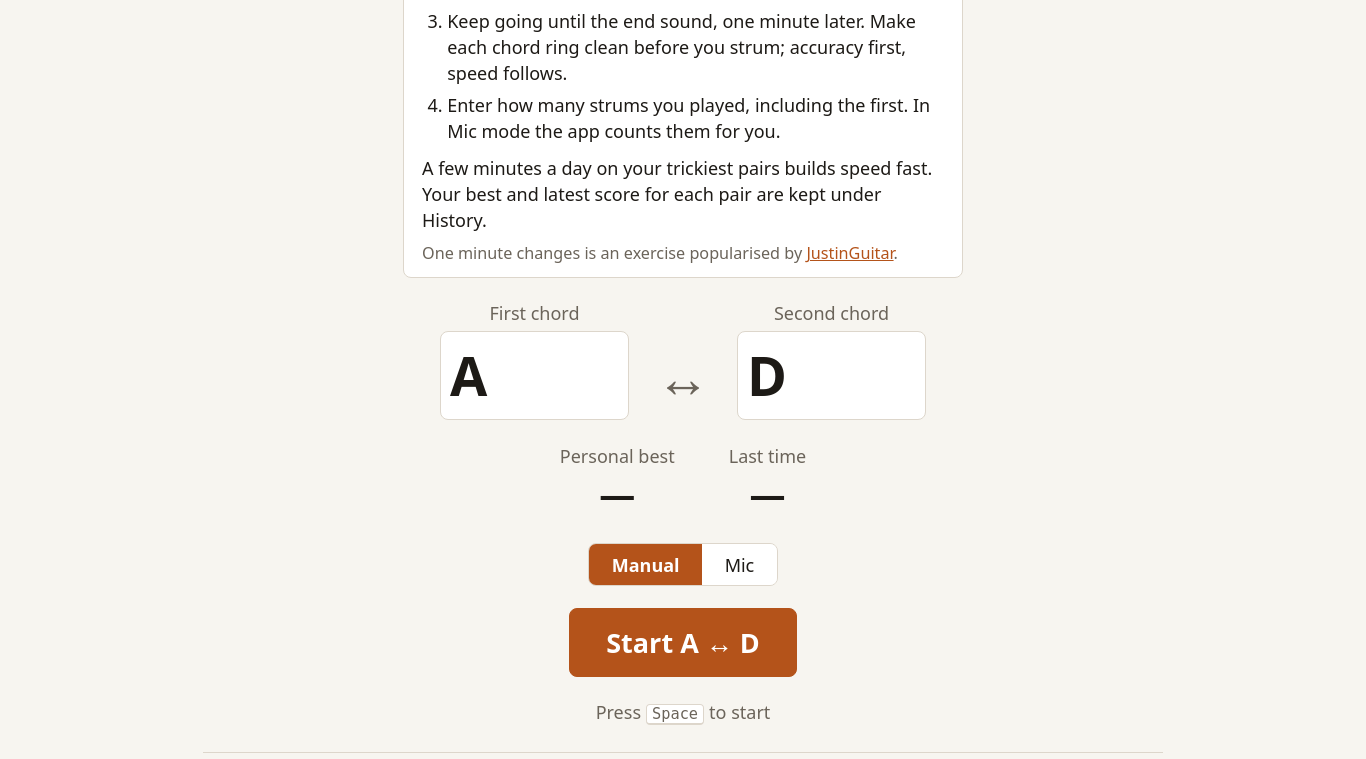
Test case: a custom chord can be typed into either slot
The image size is (1366, 759).
(page scrolled)
Replace the text in the field labelled "First chord" with "D/F#". click: (534, 376)
box: [440,331,629,420]
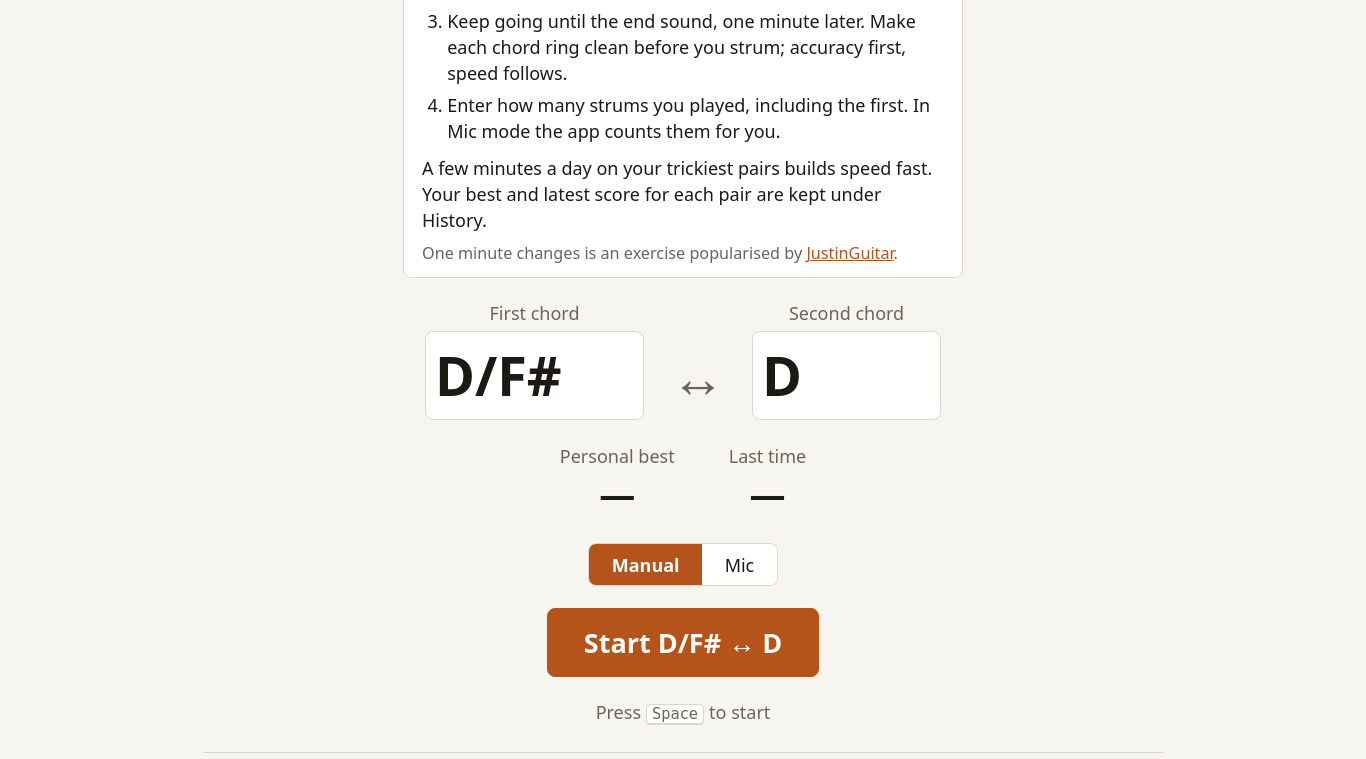
Replace the text in the field labelled "Second chord" with " G ". click: (847, 376)
box: [752,331,941,420]
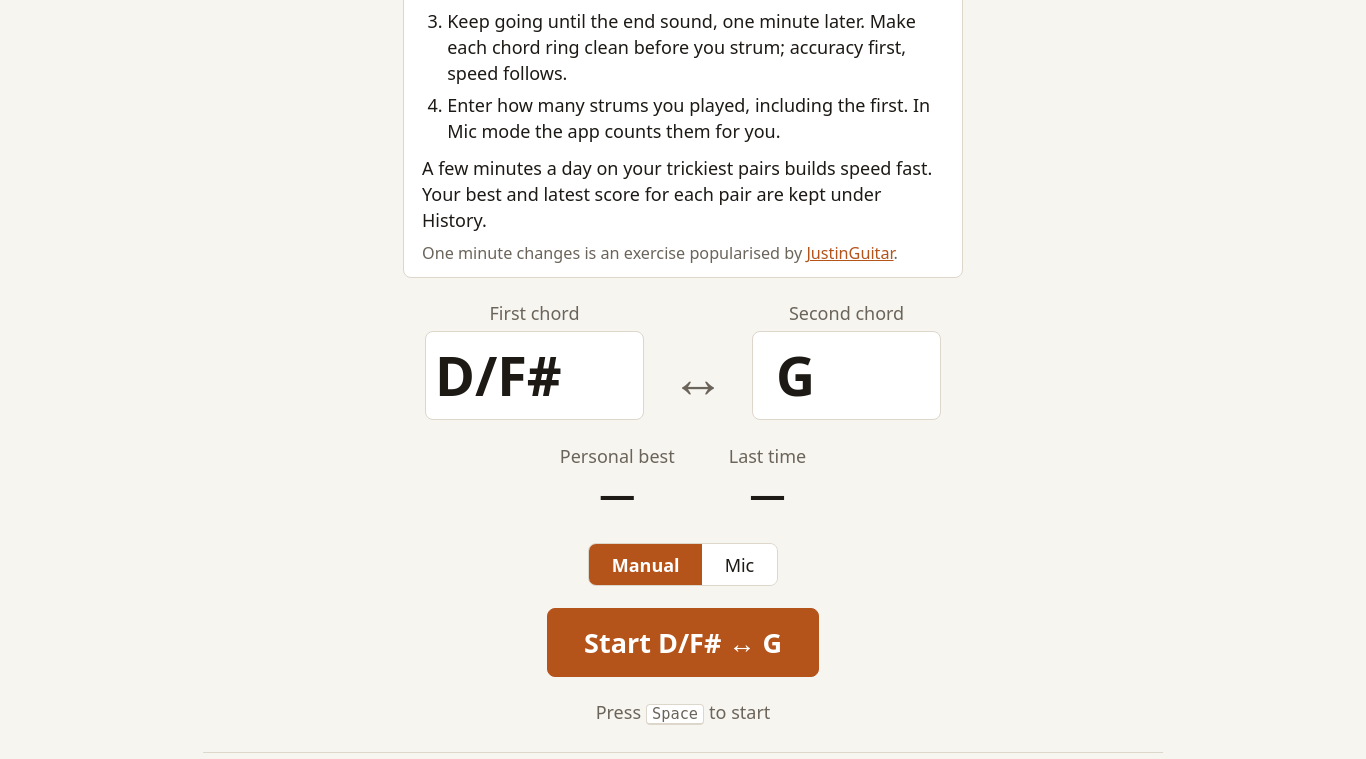
Expected: the button "Start D/F# ↔ G" is enabled, [547,608,819,676]
Expected: the button "Start D/F# ↔ G" is shown, [547,608,819,676]
